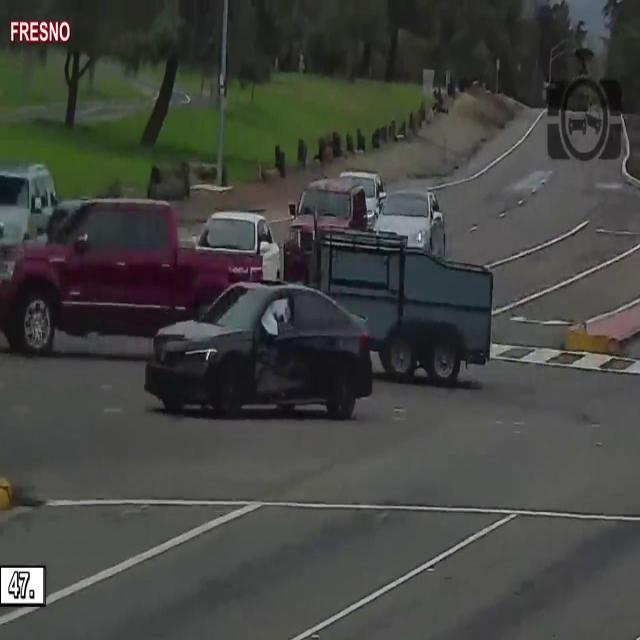accident: (137, 255, 379, 443)
